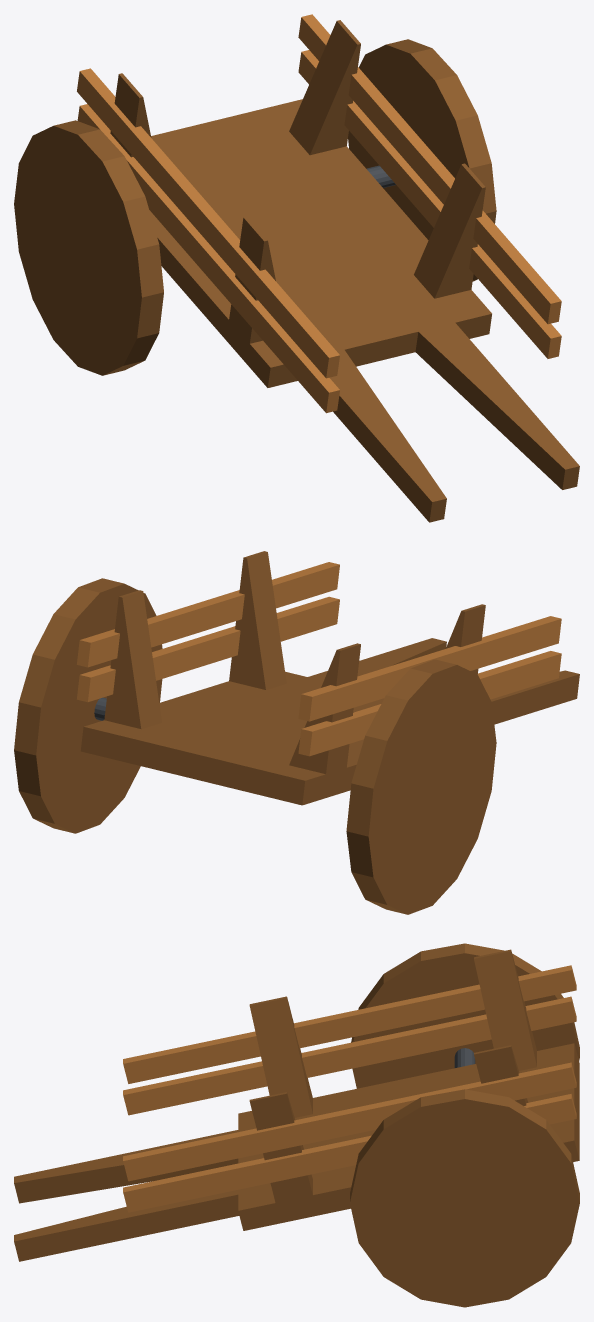
Rendered from obstacles_cart.fbx.
3 views of the same model, one above another, from view 1: azimuth 30°, elevation 25°; view 2: azimuth 150°, elevation 25°; view 3: azimuth 270°, elevation 25° (orthographic). The views are drawn at different scales.
Visible parts, largest first — view 1: Cube.005; view 2: Cube.005; view 3: Cube.005.
Boxes of the visible parts, <box> form: Cube.005: <box>14,14,579,522</box>; Cube.005: <box>14,551,579,914</box>; Cube.005: <box>14,943,579,1307</box>.
Bounding box in the file's own units: 320 × 222 × 492.
